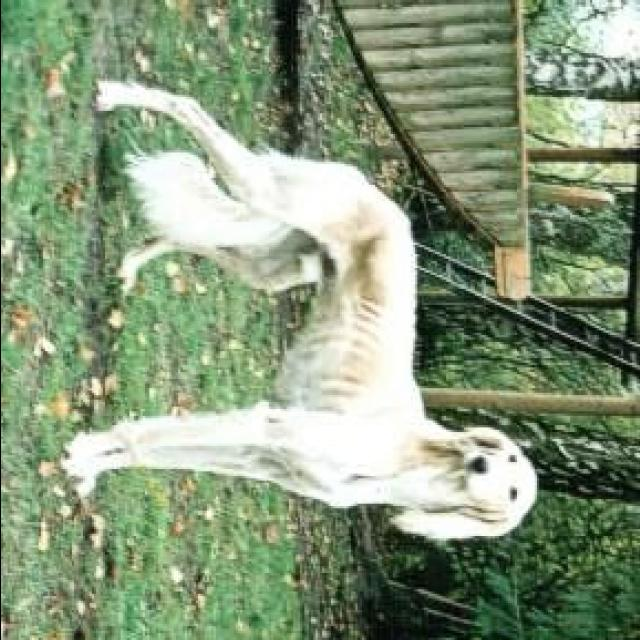saluki: (67, 81, 540, 536)
